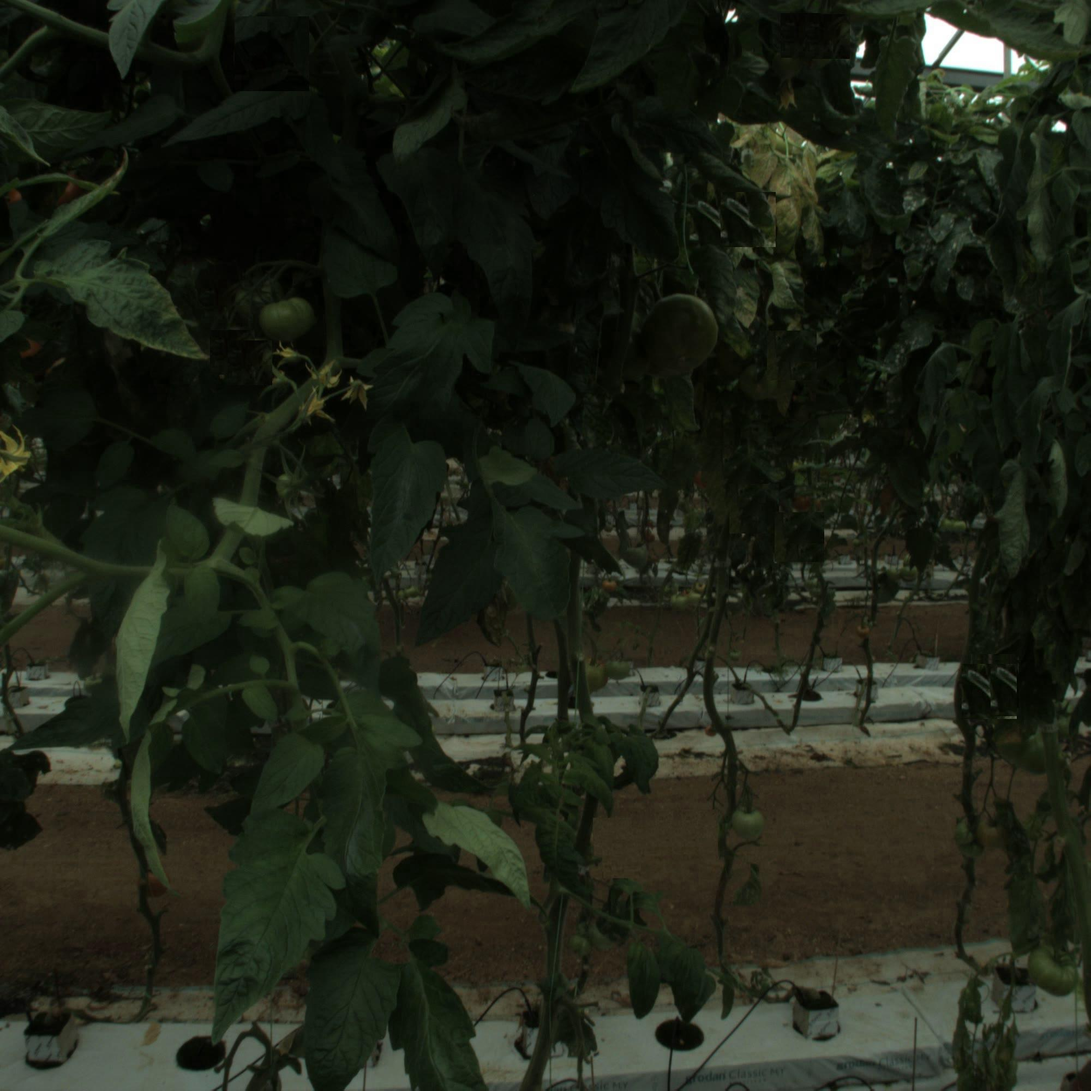unripe: (645, 295, 720, 369), (1020, 939, 1080, 999), (253, 290, 313, 350), (728, 803, 767, 842)
